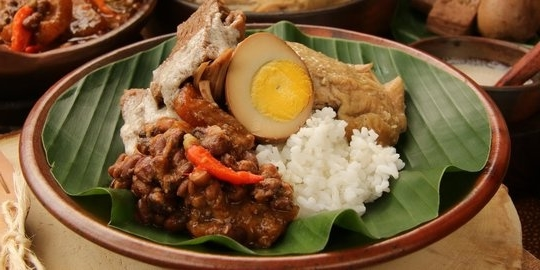gudeg: (107, 1, 409, 249)
